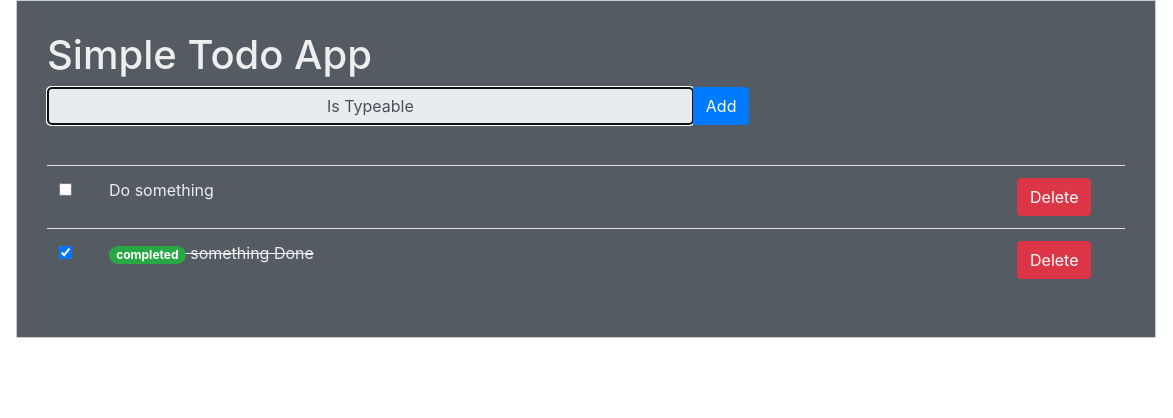
Todo User Stories all in single spec file › By pressing a button, the User can submit the to-do item and can see that being added to a list of to-do’s
Replace the text in the field with class "input-group-text" with "New Todo" at (371, 106), box x1=47 y1=87 x2=694 y2=125
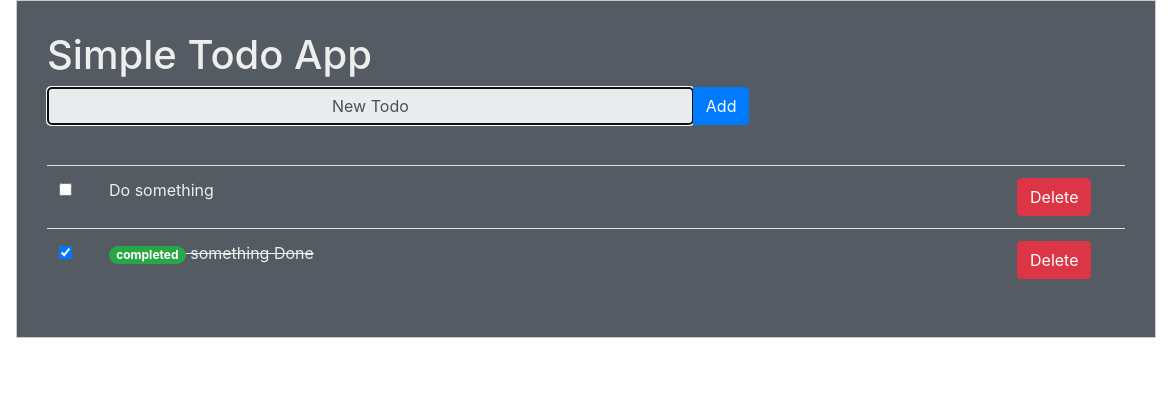
Click the button "Add" at (722, 106), box x1=693 y1=87 x2=750 y2=125
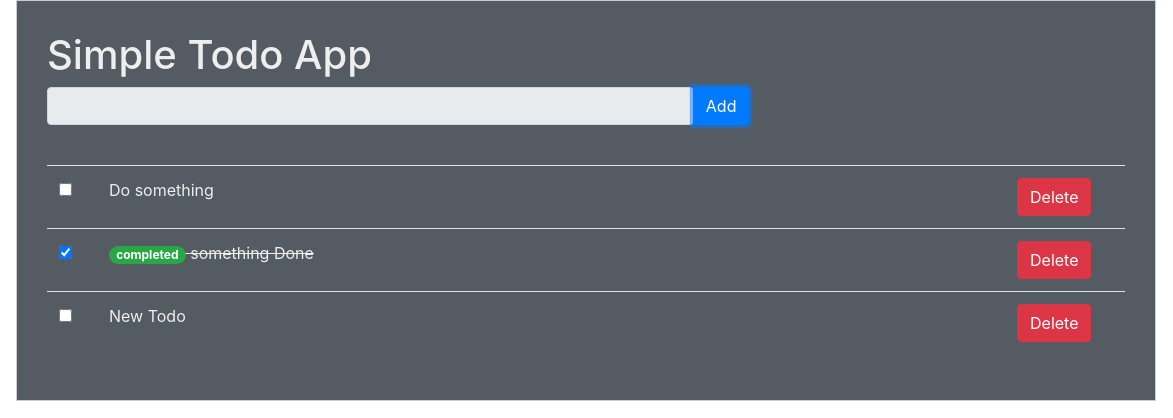
Expected: the text "New Todo" is shown, x1=97 y1=292 x2=1005 y2=354
